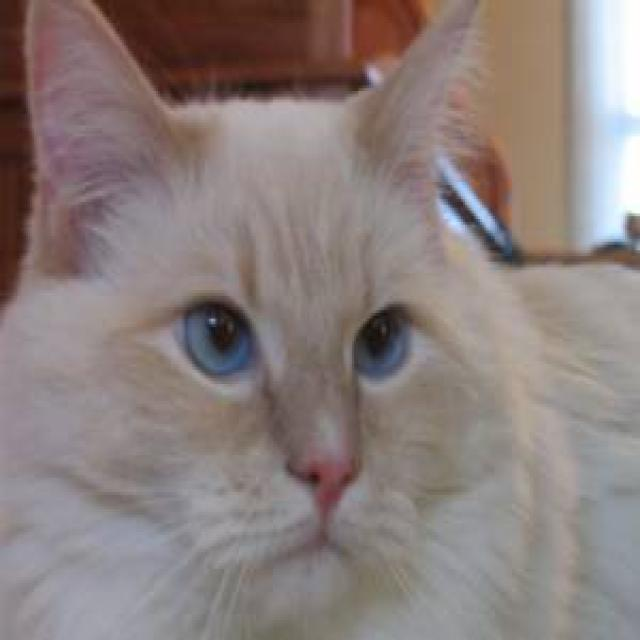Ragdoll: (16, 0, 518, 634)
